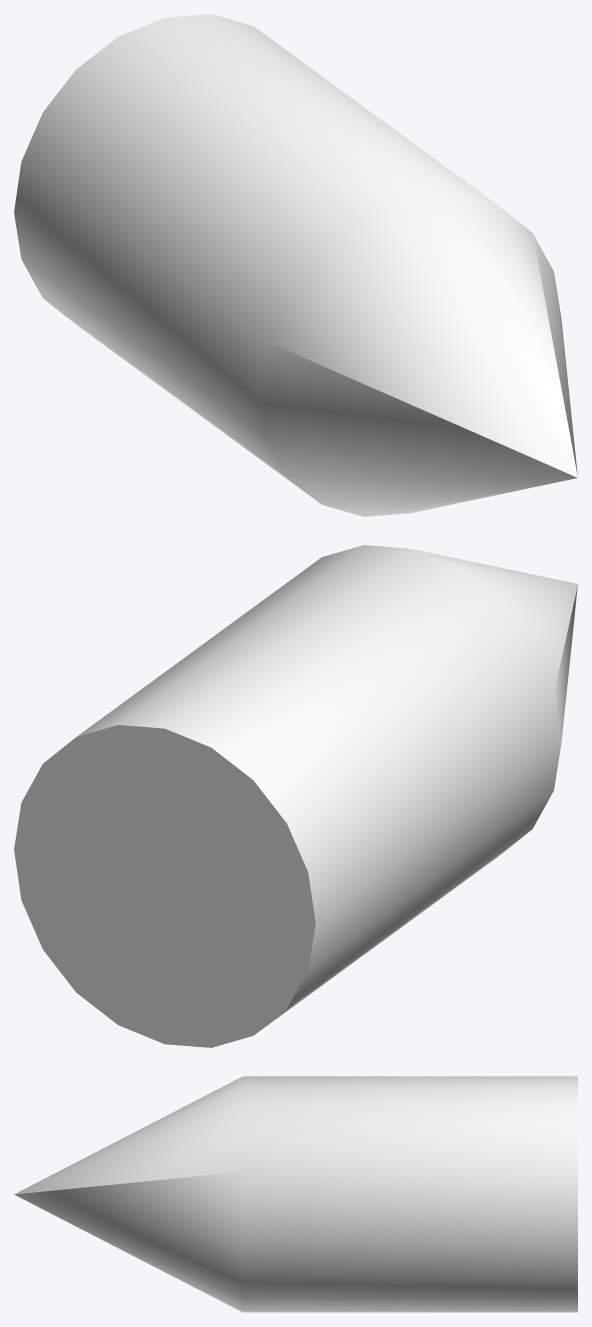
File: windturbin_center.fbx
The picture shows the model from 3 angles, top to bottom: view 1: azimuth 30°, elevation 25°; view 2: azimuth 150°, elevation 25°; view 3: azimuth 270°, elevation 25°; orthographic projection. The views are drawn at different scales.
Visible parts, largest first — view 1: center; view 2: center; view 3: center.
Part boxes in pixels (x1=…): center: x1=14, y1=14, x2=577, y2=516; center: x1=14, y1=545, x2=577, y2=1047; center: x1=14, y1=1076, x2=577, y2=1312.
Size of the model in its own units: 10.87 by 10.87 by 25.77.
